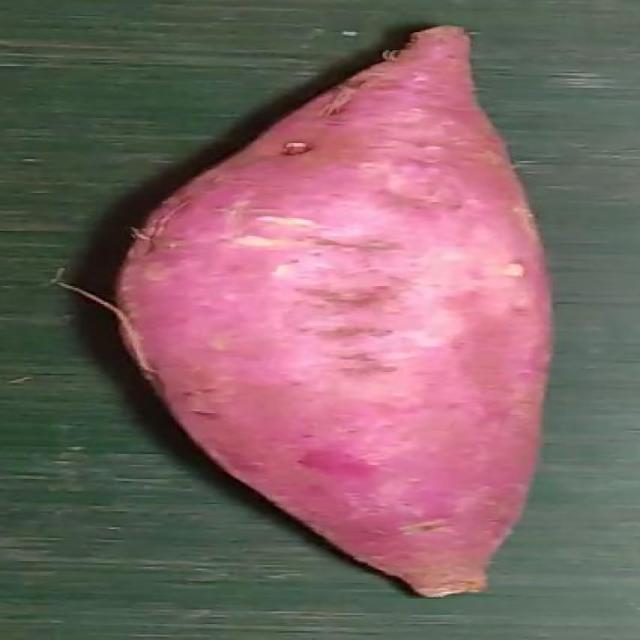Sweet Potato: (116, 26, 554, 600)
